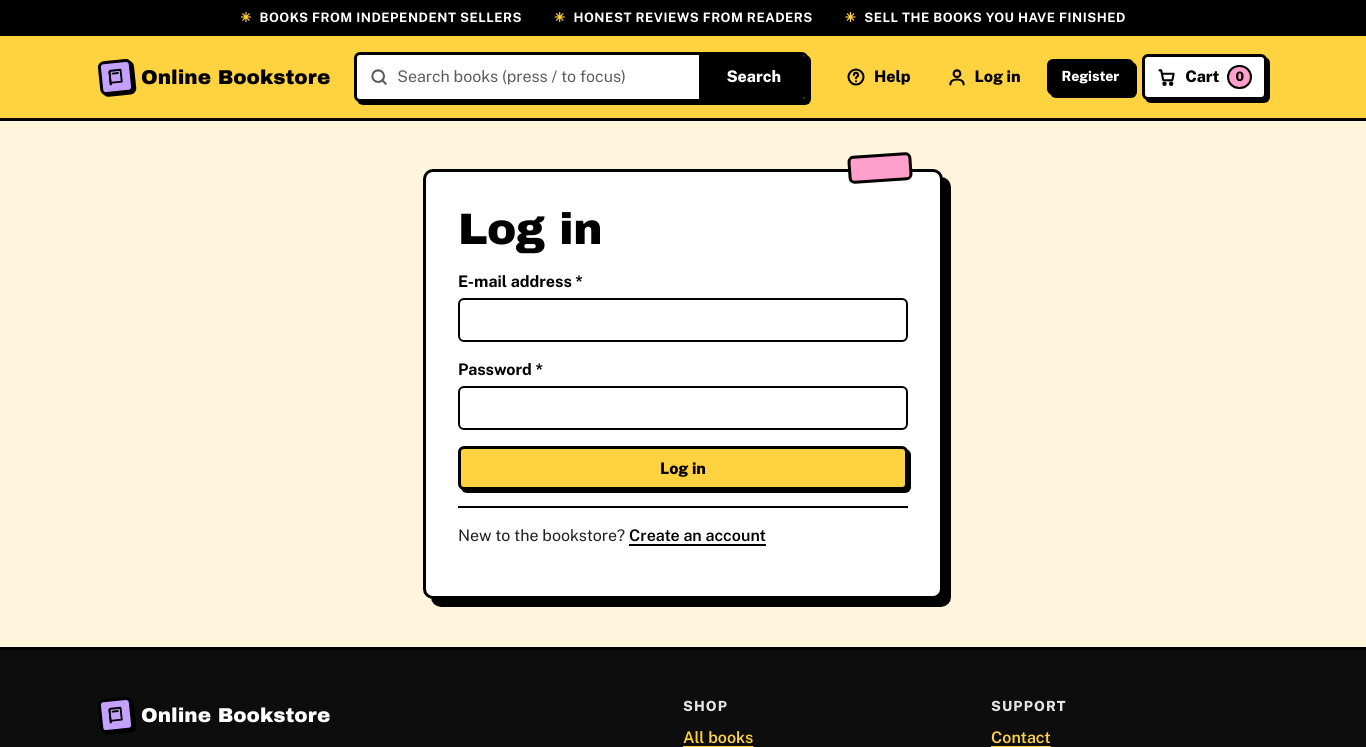
Test: Login page › TC-ST02-02: a wrong password shows an error and no token is stored
Type "anita.rao@testmail.example" into the field labelled "E-mail address *" at (683, 320), box [458, 298, 908, 342]
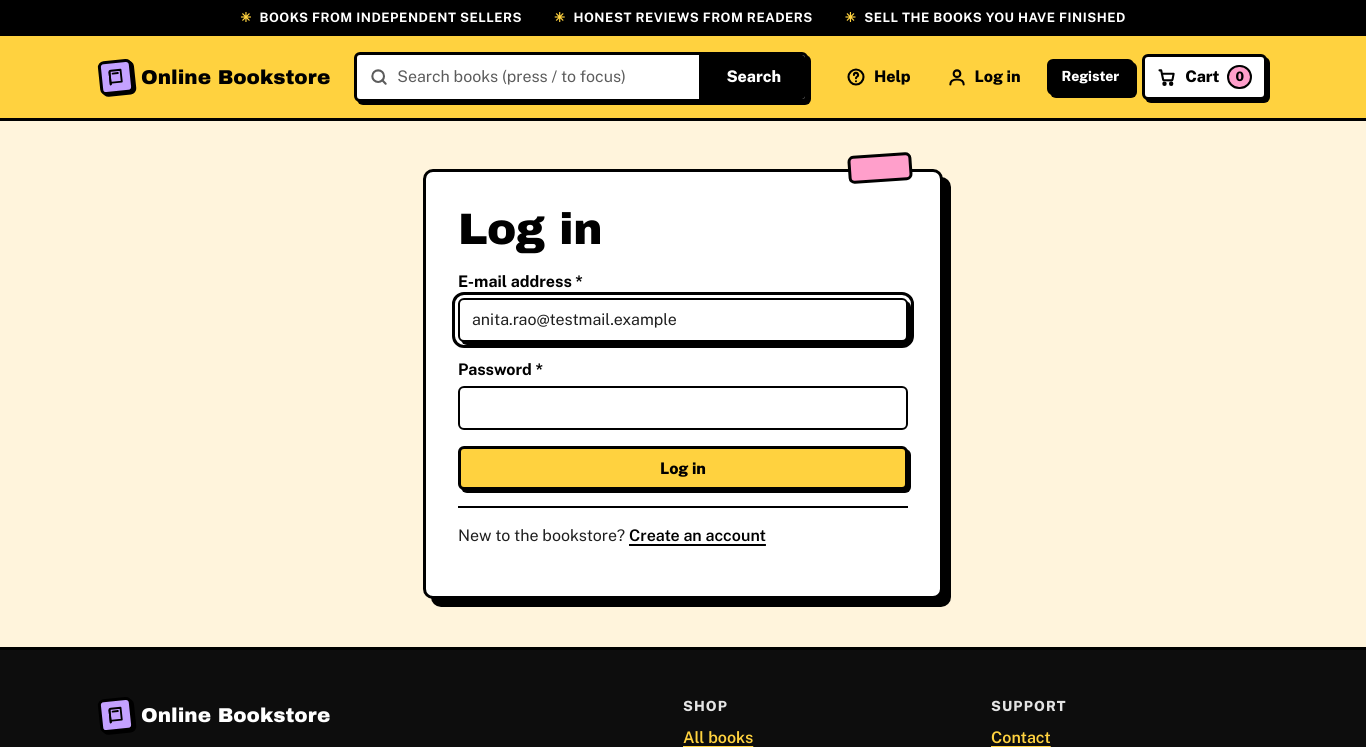
Type "WrongPass#99" into the password field labelled "Password *" at (683, 408), box [458, 386, 908, 430]
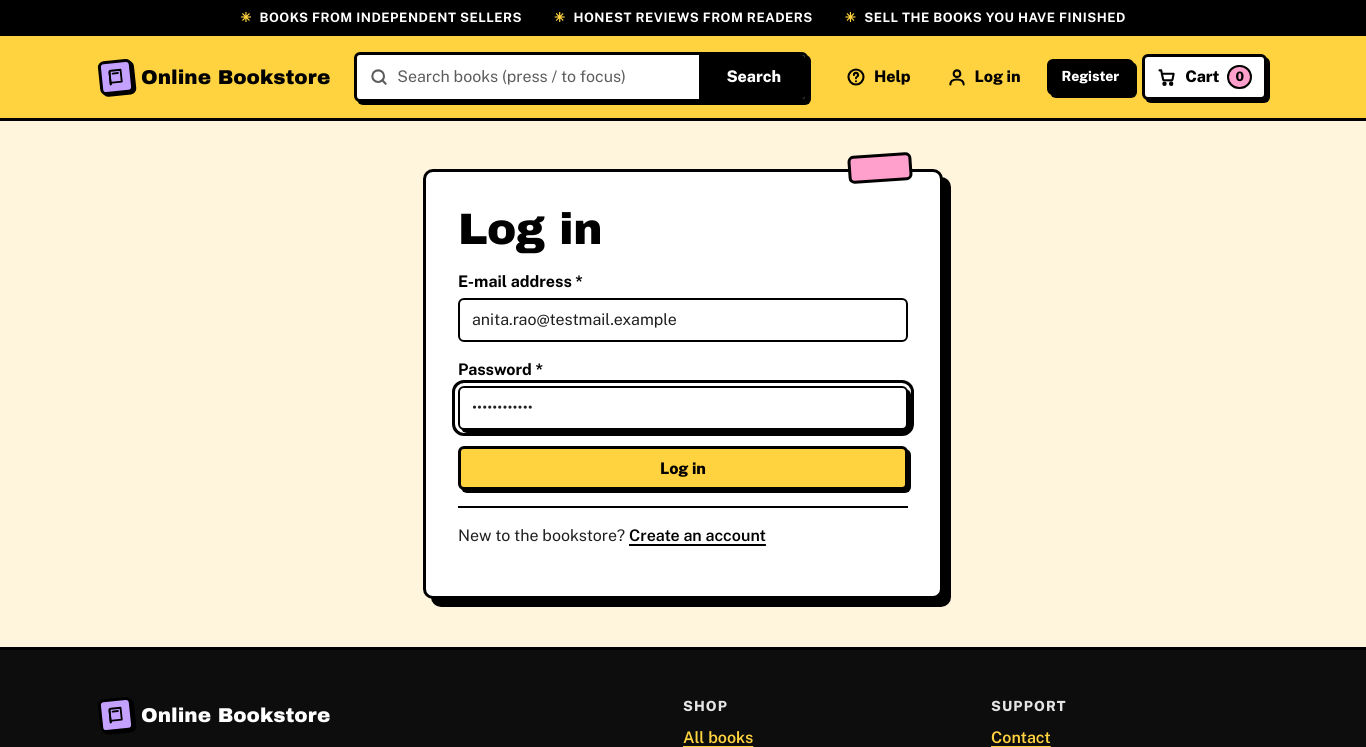
Click the button "Log in" at (683, 468), box [458, 446, 908, 490]
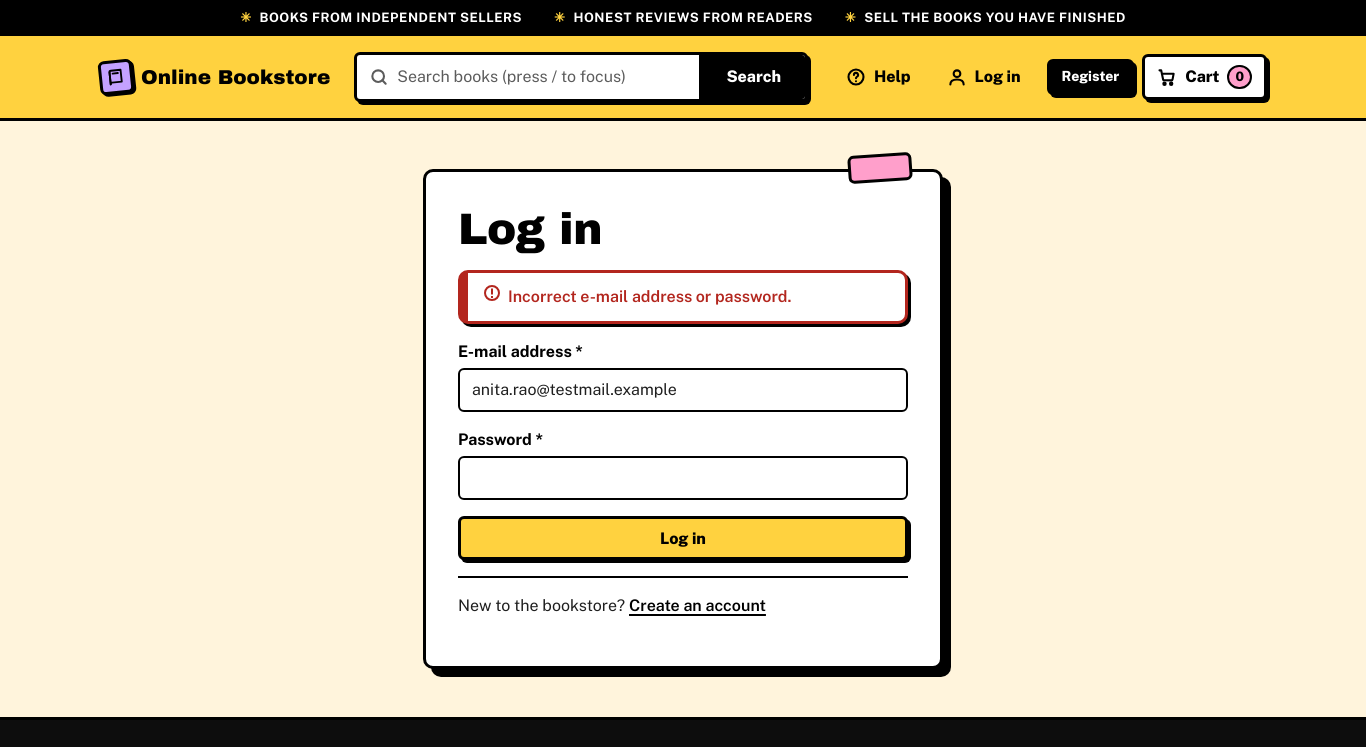
Result: the message reads "Incorrect e-mail address or password." at [508, 287, 791, 306]
Result: the password field labelled "Password *" is empty at [458, 456, 908, 500]
